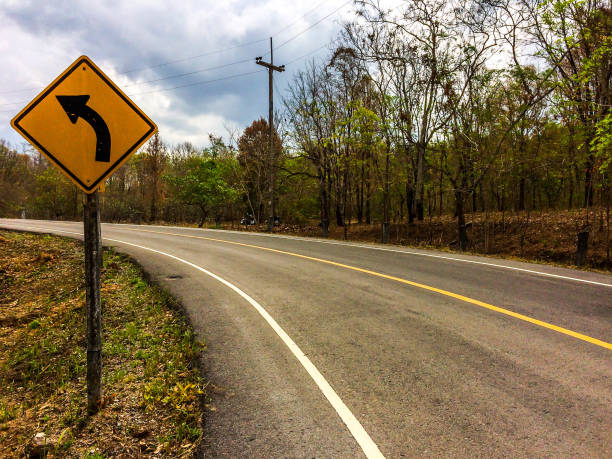left turn: (12, 55, 159, 194)
